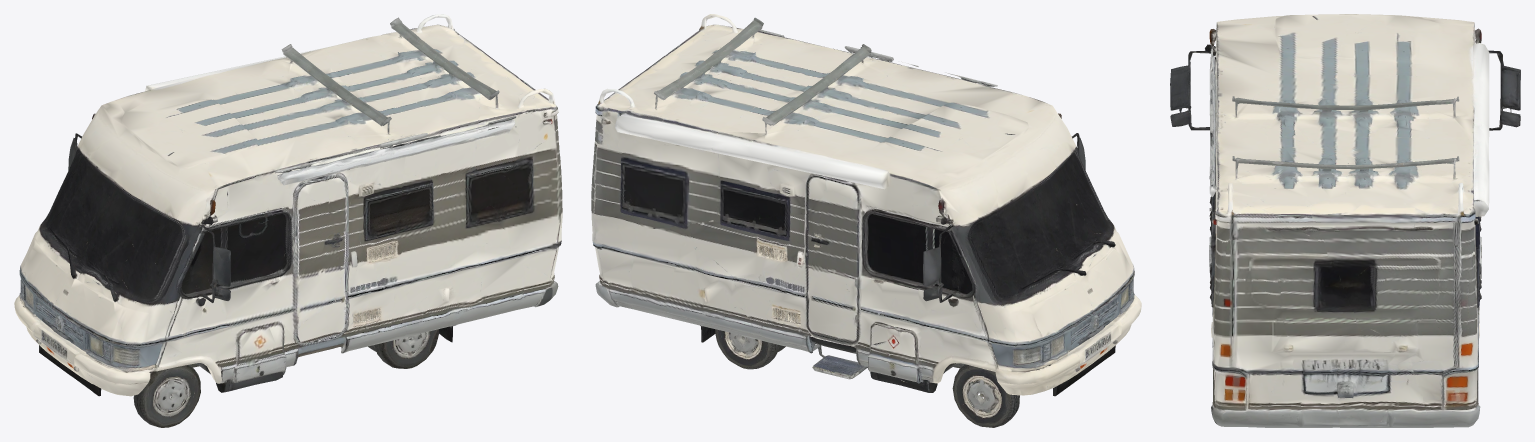
File: motorhome-SHRINK.glb
The picture shows the model from 3 angles, left to right: view 1: azimuth 30°, elevation 25°; view 2: azimuth 150°, elevation 25°; view 3: azimuth 270°, elevation 25°; orthographic projection. The views are drawn at different scales.
Size of the model in its own units: 1.9 by 1.03 by 1.12.
Materials: 1 (1 with a texture image).
